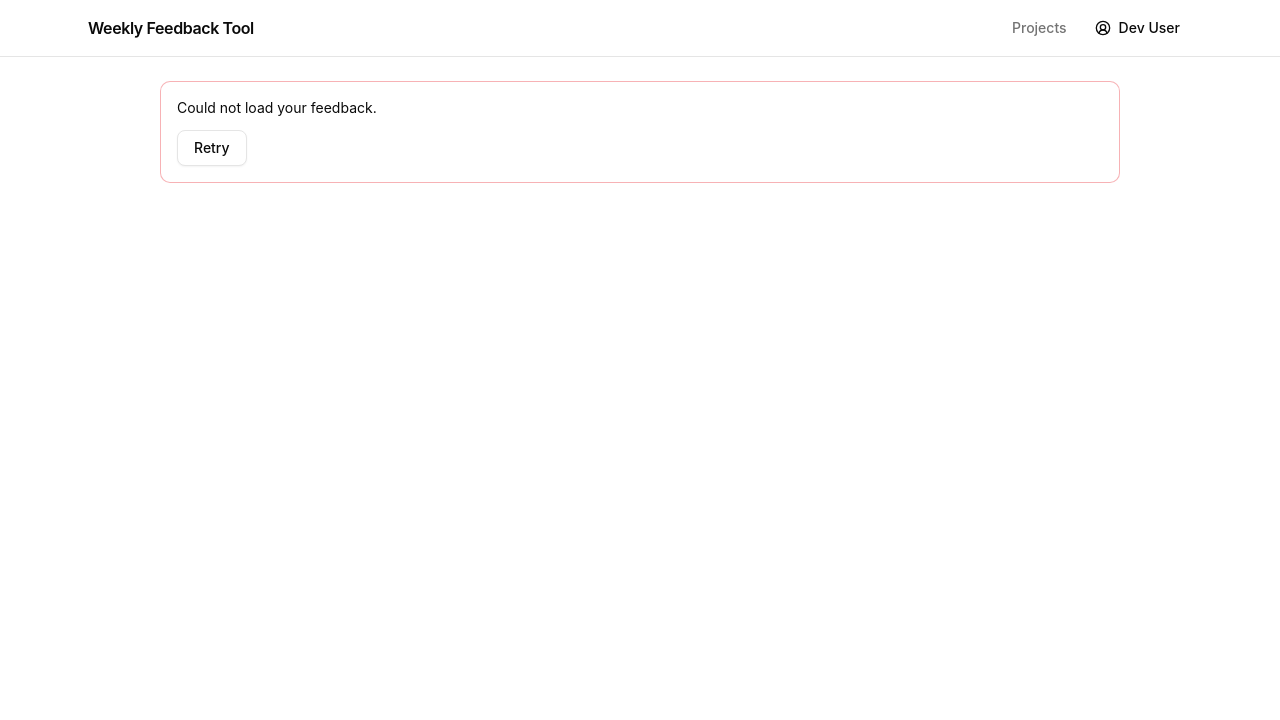
it: FeedbackPage loading and not found › shows a load error for the cycle read and Retry sends it again
The width and height of the screenshot is (1280, 720).
expect the message shows "Could not load your feedback.": met, box [177, 99, 377, 116]
Click the button "Retry": click(212, 148) [177, 130, 247, 166]
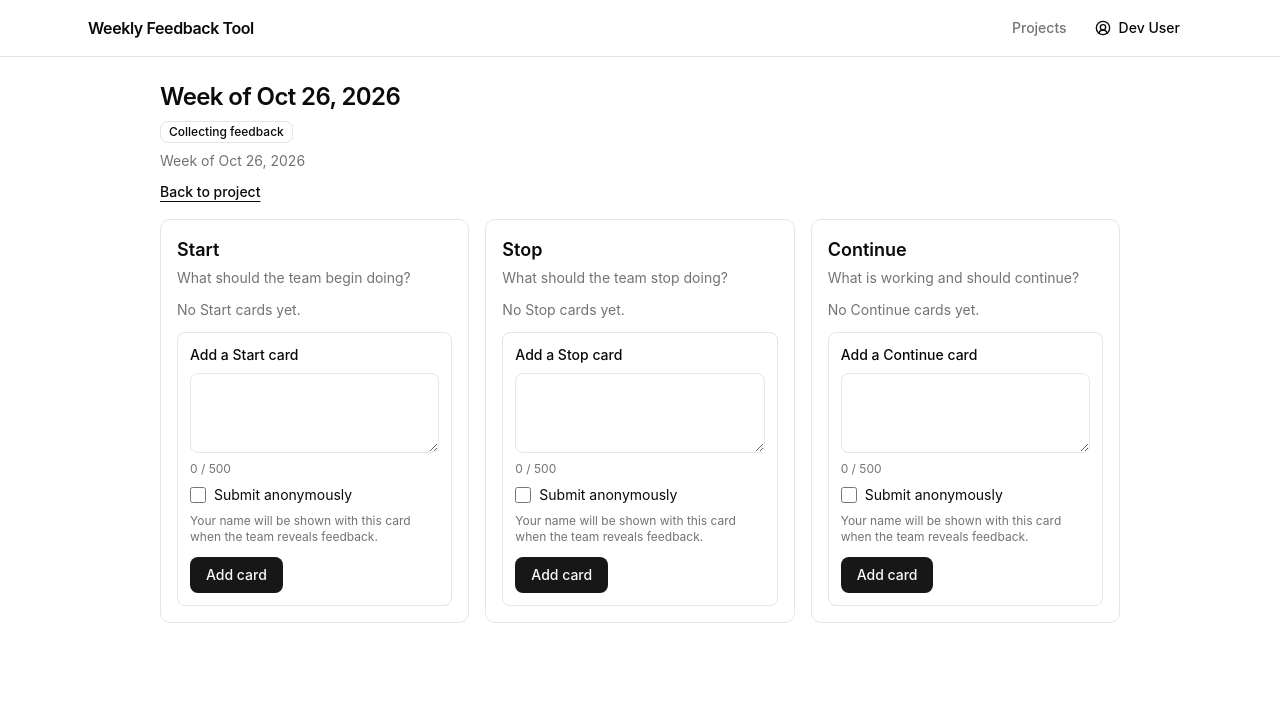
expect the element "Start" is shown: met, box [160, 219, 469, 623]
